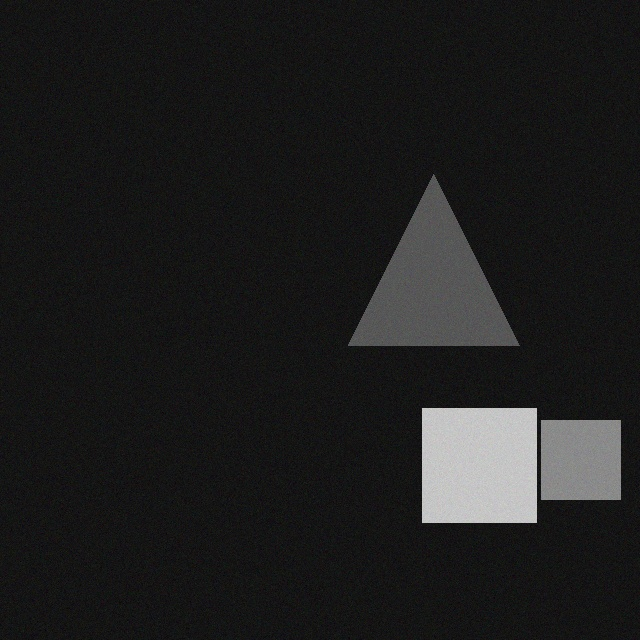square: (423, 419, 537, 533), (542, 431, 621, 510)
triangle: (349, 185, 520, 356)
